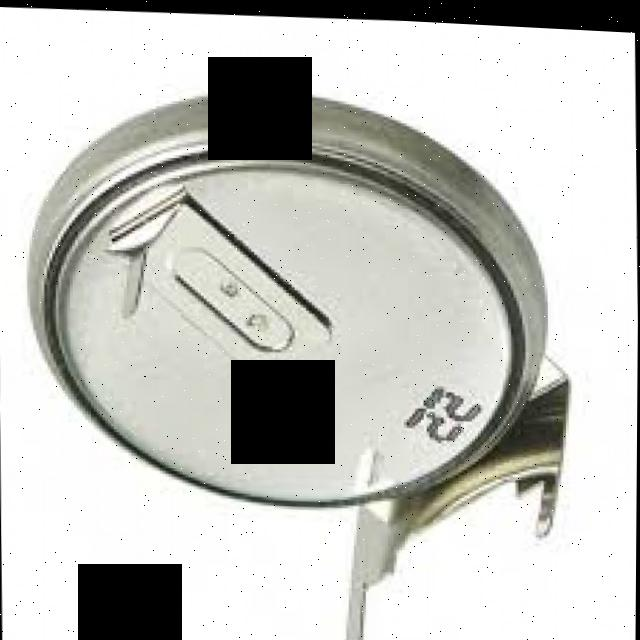battery: (2, 44, 627, 560)
